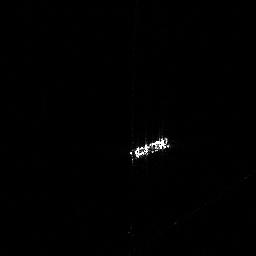ship: (128, 135, 172, 166)
